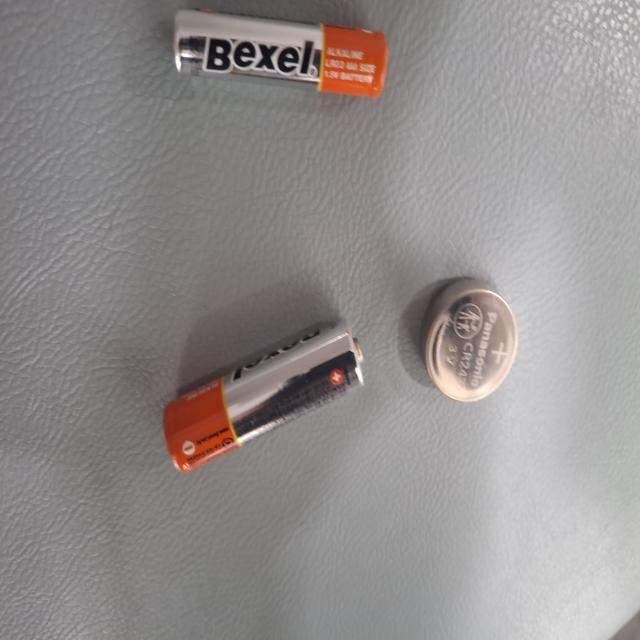AA: (273, 170, 474, 320)
AAA: (250, 539, 465, 632)
COIN: (122, 237, 220, 360)
